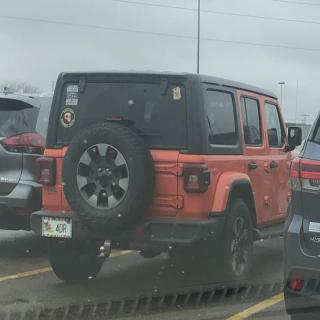license: (42, 217, 73, 240)
